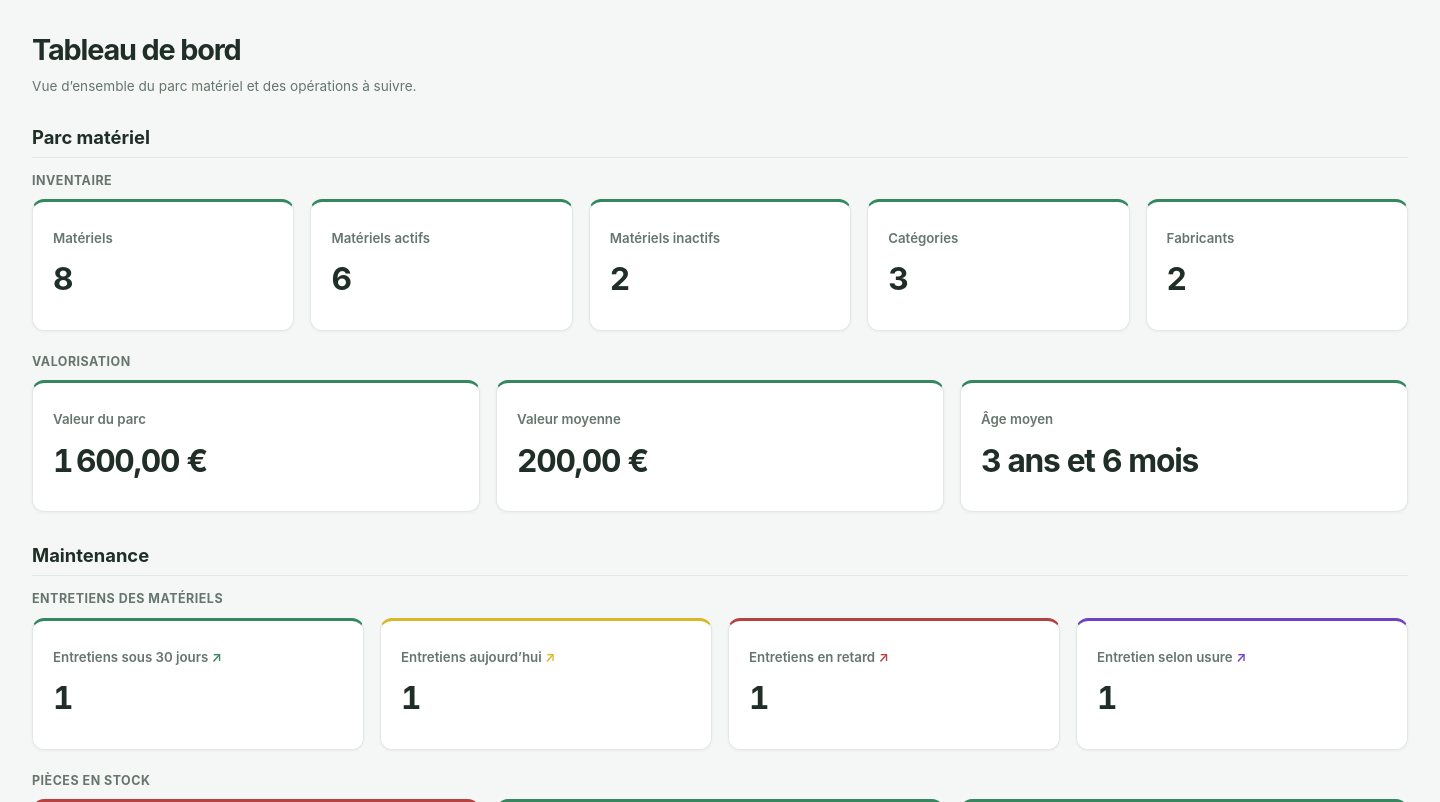
Scenario: DashboardPage › opens the list matching the "Entretiens aujourd’hui" counter
Click the button with aria-label "Voir les entretiens concernés : Entretiens aujourd’hui": (471, 657) x1=381 y1=621 x2=711 y2=749
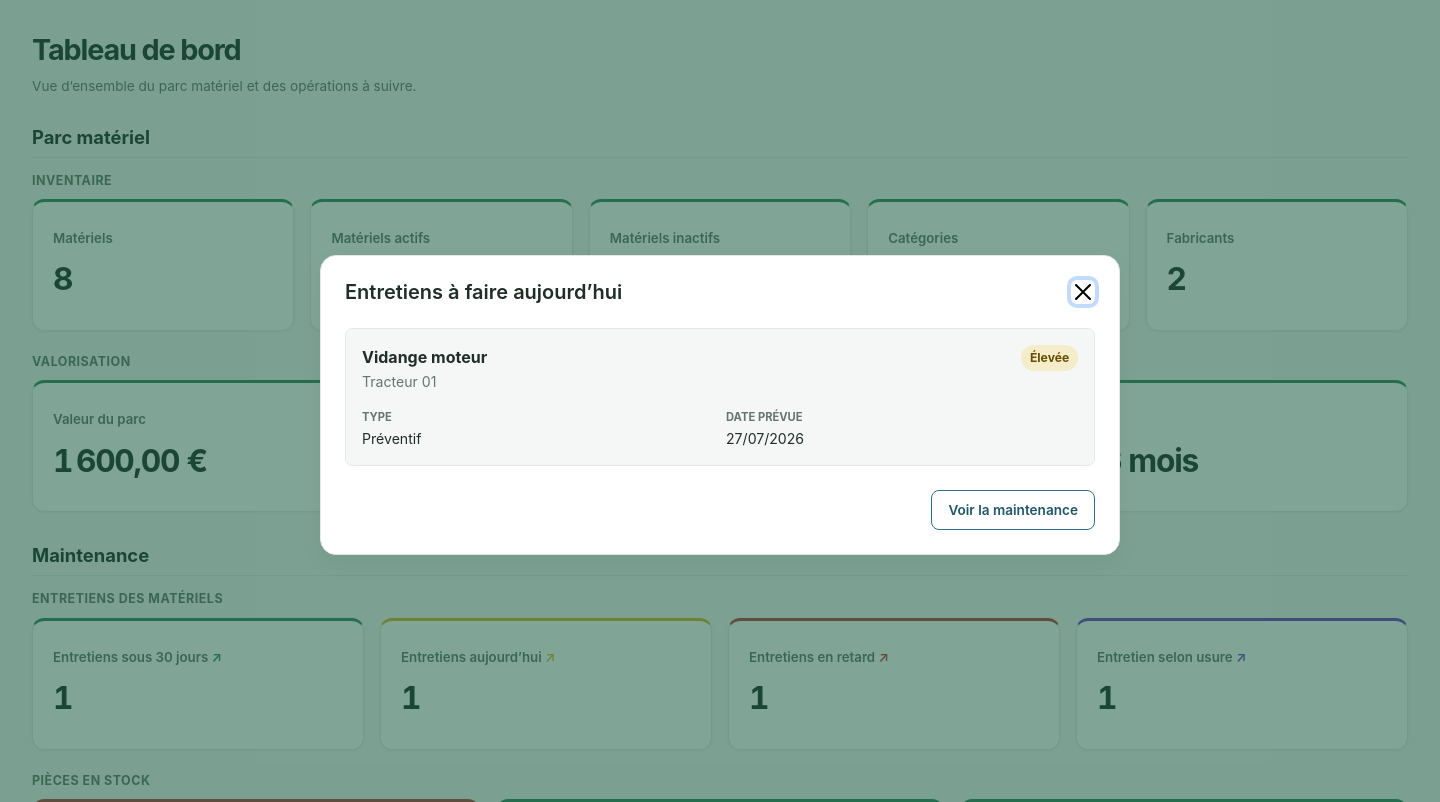
Expected: the text "Vidange moteur" is shown, x1=362 y1=345 x2=487 y2=369
Expected: the text "Tracteur 01" is shown, x1=362 y1=373 x2=436 y2=390
